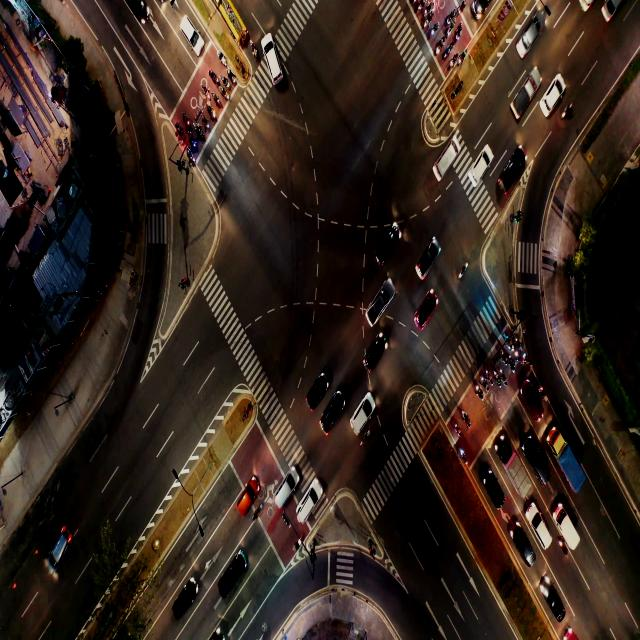bus: (223, 15, 242, 35)
car: (50, 526, 71, 567), (362, 338, 383, 379), (307, 373, 325, 420), (236, 477, 254, 518), (322, 398, 344, 431), (368, 289, 387, 327), (375, 234, 394, 268), (502, 156, 519, 194), (177, 585, 196, 616), (275, 471, 294, 502), (221, 562, 240, 592), (528, 522, 548, 550), (546, 77, 562, 112), (470, 152, 487, 183), (485, 473, 503, 502), (513, 534, 532, 561), (437, 150, 452, 183), (301, 491, 318, 517), (352, 404, 367, 432), (417, 302, 433, 326), (183, 20, 197, 47), (422, 245, 435, 271), (267, 44, 277, 76), (534, 452, 546, 477), (525, 394, 540, 414), (548, 595, 563, 611), (523, 32, 535, 52)
motorcycle: (457, 448, 470, 465), (564, 100, 572, 118), (460, 265, 470, 278), (294, 538, 303, 550), (214, 92, 221, 107), (436, 41, 444, 54), (211, 70, 218, 84), (452, 424, 460, 436), (361, 432, 368, 445), (207, 108, 214, 120), (255, 504, 261, 518), (476, 388, 482, 402), (456, 27, 462, 41), (446, 26, 452, 39), (515, 352, 522, 363), (451, 56, 458, 67), (464, 416, 470, 428), (502, 352, 508, 364), (509, 362, 515, 374), (459, 52, 465, 64), (446, 44, 452, 56), (426, 3, 432, 15), (187, 154, 194, 164), (432, 22, 437, 36), (219, 86, 225, 97), (448, 11, 454, 22), (204, 88, 209, 101), (524, 352, 529, 365), (178, 131, 185, 140), (228, 71, 234, 81), (500, 374, 506, 384), (506, 337, 511, 348), (416, 4, 422, 13), (184, 119, 189, 129), (203, 120, 208, 130), (426, 17, 430, 29), (220, 57, 225, 66), (483, 382, 488, 391), (488, 373, 493, 382), (541, 387, 545, 398), (191, 137, 195, 147), (196, 128, 201, 136), (496, 377, 500, 387), (460, 3, 464, 13), (223, 78, 227, 87), (516, 340, 520, 349), (252, 44, 254, 54)
truck: (518, 85, 530, 112), (557, 516, 570, 539), (515, 463, 526, 487), (565, 454, 572, 474)
